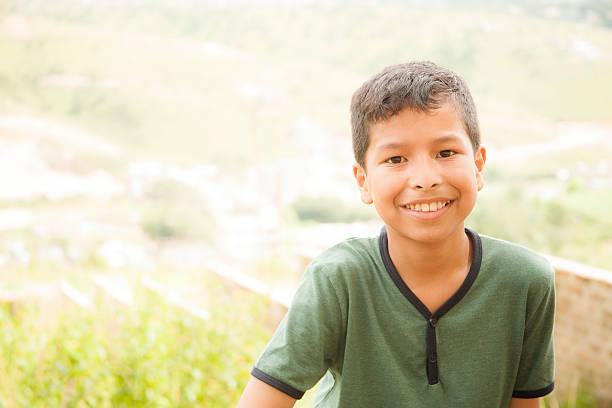Human: (239, 59, 592, 408)
